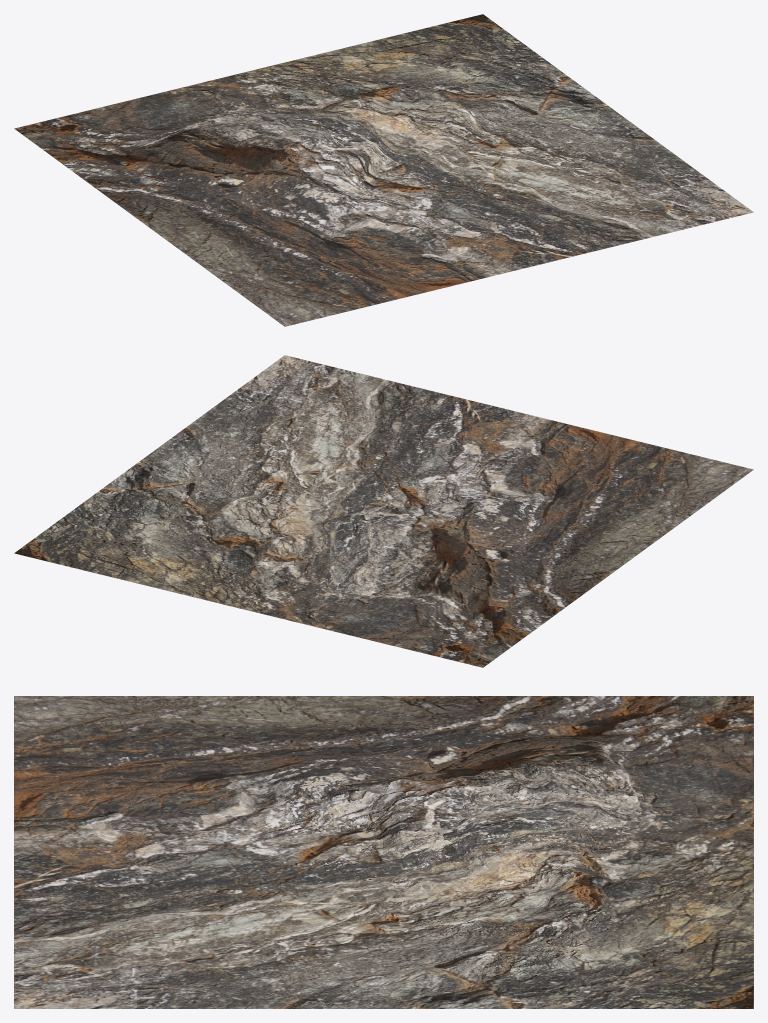
Rendered from map1.gltf.
3 views of the same model, one above another, from view 1: azimuth 30°, elevation 25°; view 2: azimuth 150°, elevation 25°; view 3: azimuth 270°, elevation 25° (orthographic). The views are drawn at different scales.
Parts seen in each view (by area): view 1: Plane; view 2: Plane; view 3: Plane.
Part boxes in pixels (x1,y1,x2,y2): Plane: (14, 14, 753, 326); Plane: (14, 355, 753, 667); Plane: (14, 696, 753, 1008).
Bounding box in the file's own units: 10 × 0.438 × 10.
1 material, 1 textured.
